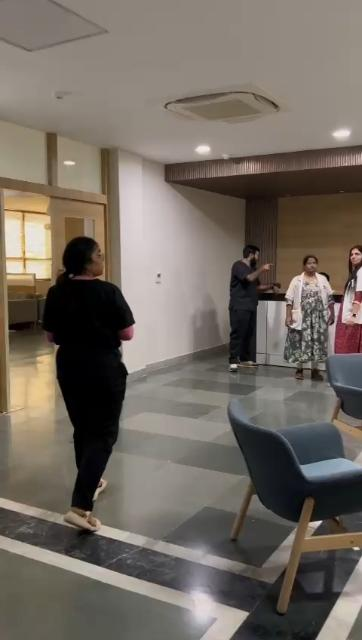floor: (0, 357, 362, 637)
moving-obj: (40, 235, 138, 538), (214, 232, 282, 392), (308, 228, 362, 384), (279, 228, 313, 380)
object: (222, 393, 362, 607), (320, 354, 362, 430)
wall: (170, 188, 225, 342), (220, 198, 362, 244), (124, 158, 172, 294), (142, 287, 180, 359), (265, 240, 301, 262), (320, 243, 348, 269), (125, 345, 154, 361), (276, 260, 299, 274), (300, 242, 322, 254), (173, 342, 205, 350), (333, 266, 343, 288)
